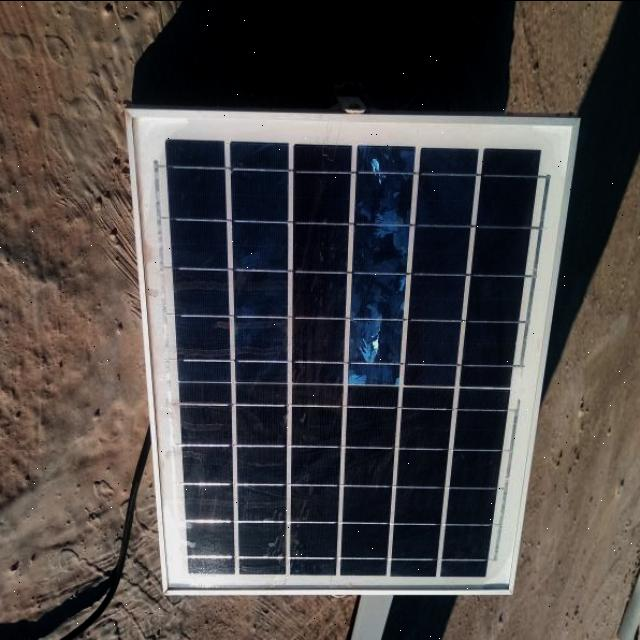Normal Solar Panel: (126, 110, 576, 592)
